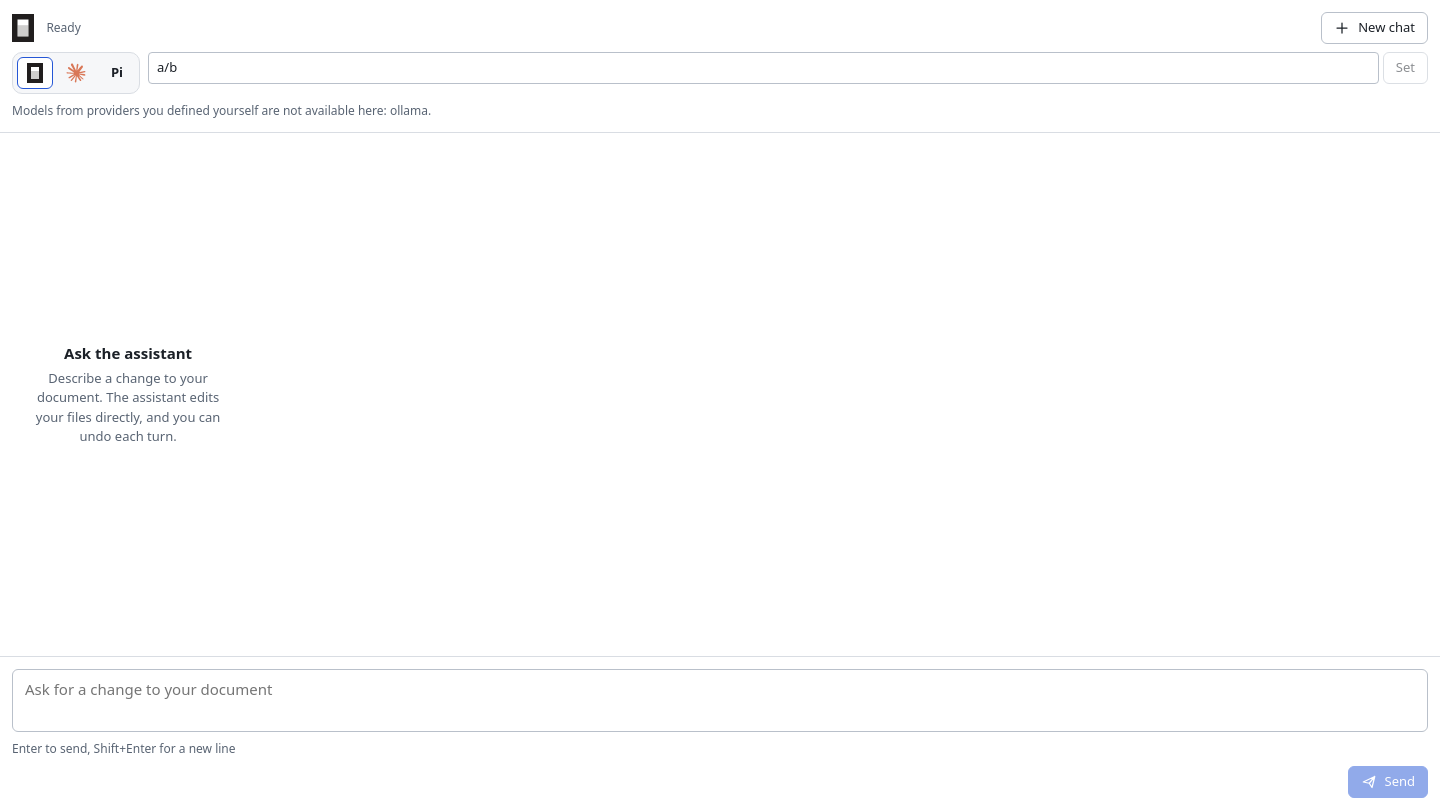
Test: ChatPanel header › shows the note a provider carries, and hides the model setting of one that takes no model
expect the text "Models from providers you defined yourself are not available here: ollama." is shown: met, box [12,102,431,119]
expect the field named "Model" is shown: met, box [148,52,1379,84]
Click the radio button labelled "Pi" at (117, 73), box [99,57,135,89]
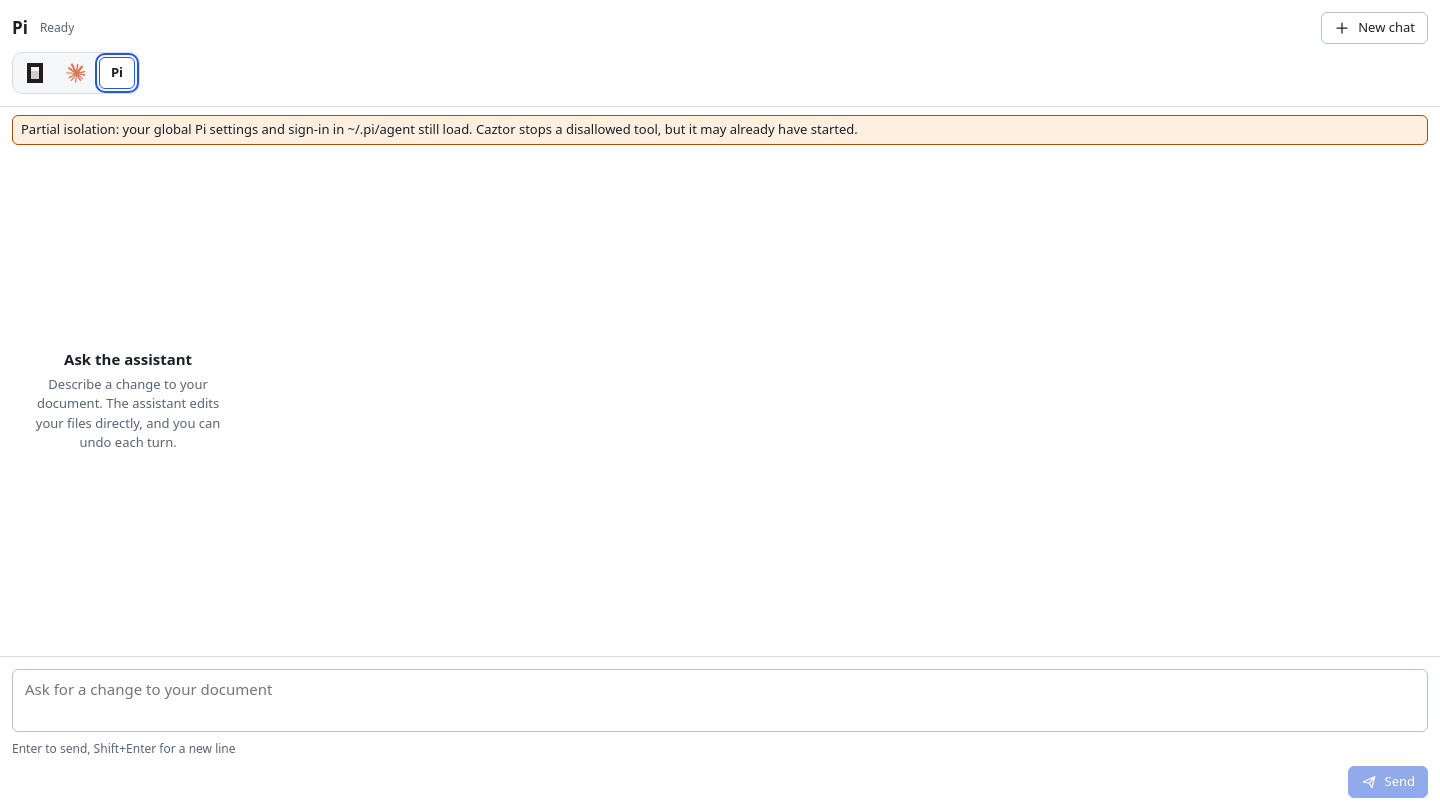
expect the text "Model" is gone: met
expect the text "ollama" is gone: met
